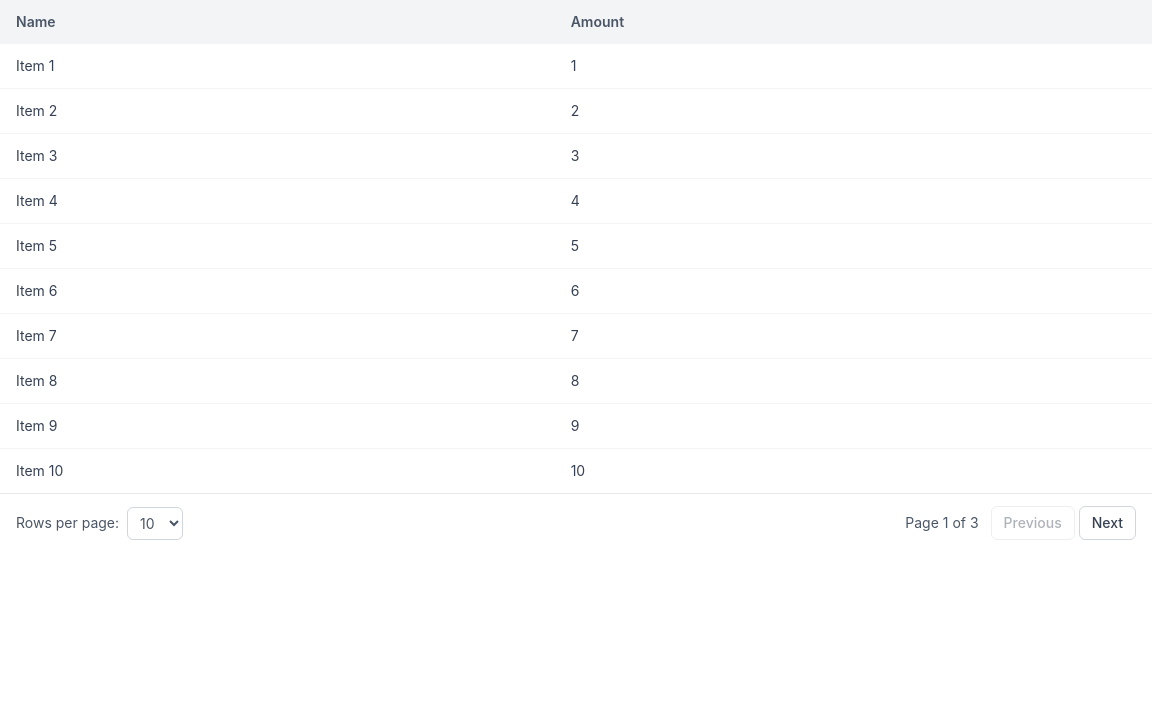
Test: DashboardTable › should change the page size
Select "25" in the dropdown showing "10" at (155, 523), box [127, 506, 183, 540]
(page scrolled)
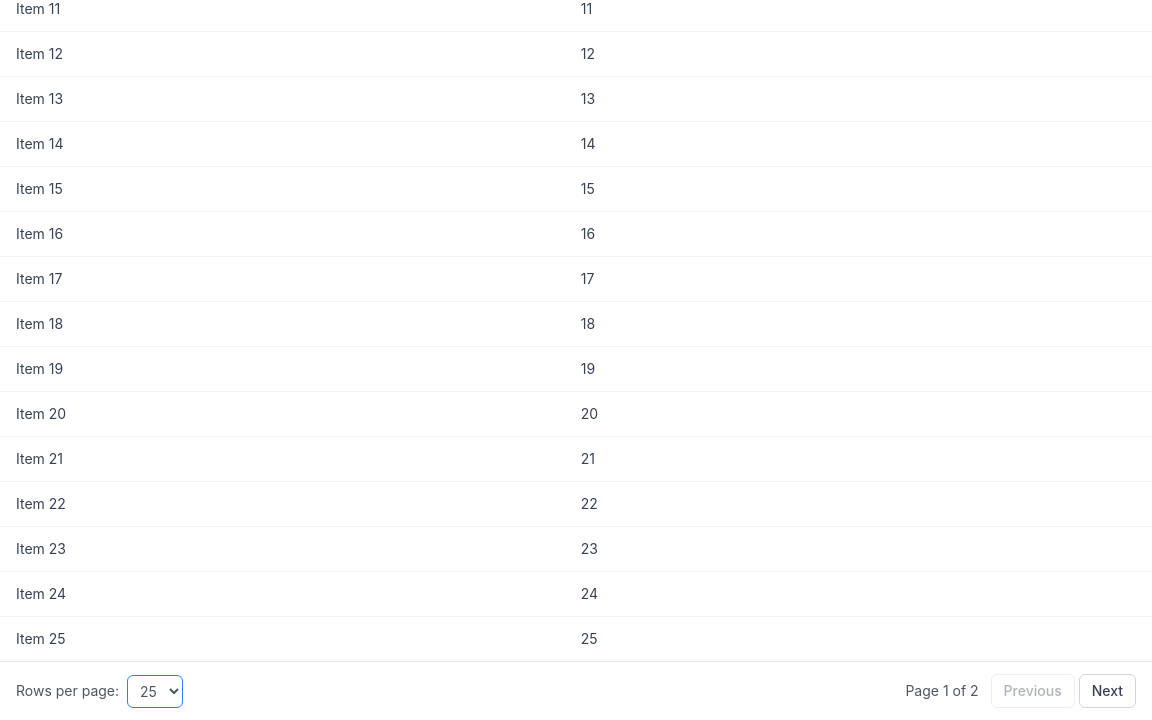
Result: the text "Page 1 of 2" is shown at [905, 681, 979, 701]
Result: the text "Item 25" is shown at [0, 616, 565, 662]
